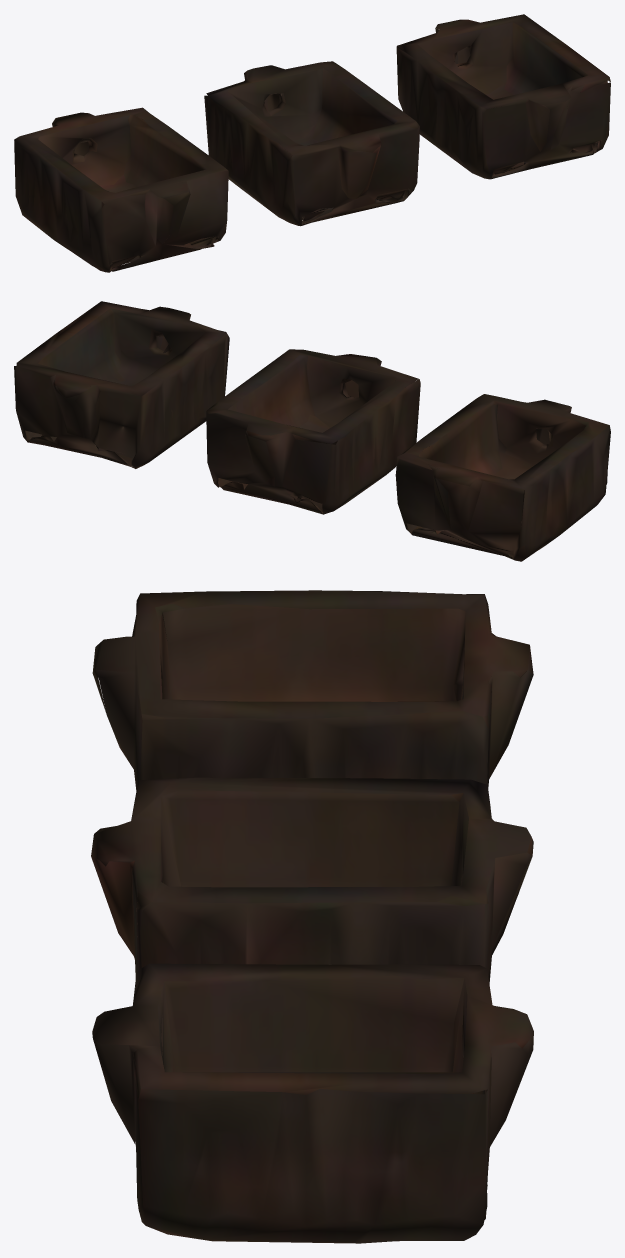
Rendered from molde_lingote.movil.glb.
3 renders of one model, top to bottom at view 1: azimuth 30°, elevation 25°; view 2: azimuth 150°, elevation 25°; view 3: azimuth 270°, elevation 25°, orthographic. The views are drawn at different scales.
Visible parts, largest first — view 1: geometry_0; view 2: geometry_0; view 3: geometry_0.
Part boxes in pixels (box(x1,y1,x2,y2)): geometry_0: box(14, 14, 610, 272); geometry_0: box(14, 301, 610, 561); geometry_0: box(91, 590, 533, 1243).
Size of the model in its own units: 1.6 by 0.2497 by 0.5984.
1 material, 1 textured.
